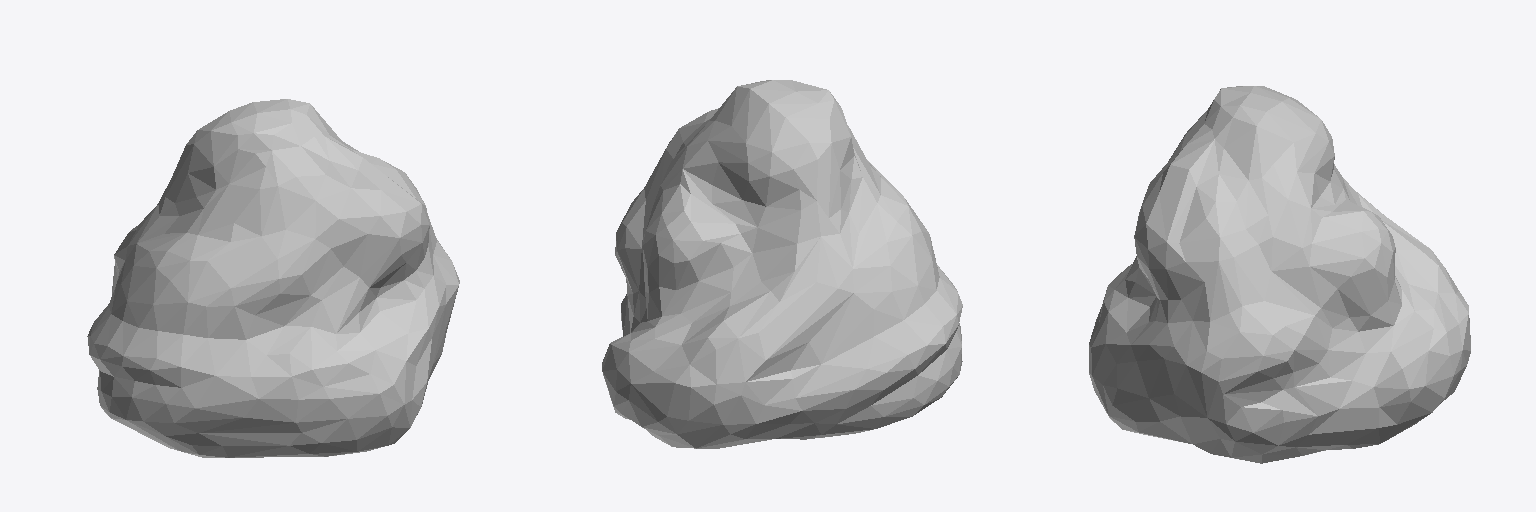
Rendered from Rockk4.obj.
The picture shows the model from 3 angles: view 1: azimuth 30°, elevation 25°; view 2: azimuth 150°, elevation 25°; view 3: azimuth 270°, elevation 25°; orthographic projection.
Visible parts, largest first — view 1: Rockk4; view 2: Rockk4; view 3: Rockk4.
Part boxes in pixels (x1,y1,x2,y2): Rockk4: (87, 99, 459, 457); Rockk4: (602, 80, 962, 448); Rockk4: (1089, 86, 1470, 463).
Size of the model in its own units: 2.4 by 2.17 by 2.38.